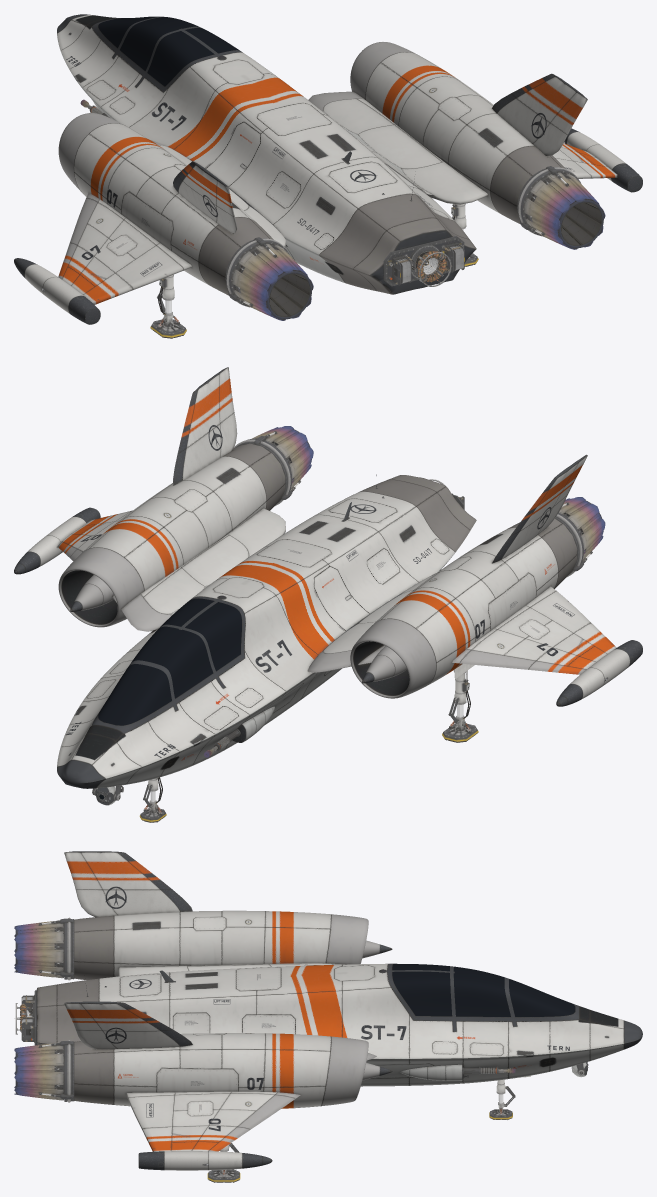
Rendered from tern_lod0.gltf.
3 views of the same model, one above another, from view 1: azimuth 30°, elevation 25°; view 2: azimuth 150°, elevation 25°; view 3: azimuth 270°, elevation 25° (orthographic). The views are drawn at different scales.
Parts seen in each view (by area): view 1: Hull, EngineNozzle_L, EngineNozzle_R, Glass, DriftDrive.001, Decals, GearMainL; view 2: Hull, Glass, EngineNozzle_R, EngineNozzle_L, Decals, GearMainL, GearNose; view 3: Hull, Glass, EngineNozzle_L, EngineNozzle_R, Decals, DriftDrive.001, GearNose, GearMainR.
Part boxes in pixels (x1,y1,x2,y2): Hull: [14, 14, 642, 324]; EngineNozzle_L: [225, 237, 313, 320]; EngineNozzle_R: [517, 166, 605, 249]; Glass: [98, 16, 239, 86]; DriftDrive.001: [383, 236, 464, 286]; Decals: [66, 56, 574, 276]; GearMainL: [150, 275, 186, 338]; Hull: [14, 367, 642, 788]; Glass: [98, 598, 241, 725]; EngineNozzle_R: [234, 426, 313, 505]; EngineNozzle_L: [555, 497, 605, 577]; Decals: [66, 425, 574, 760]; GearMainL: [442, 669, 478, 742]; GearNose: [139, 777, 166, 822]; Hull: [36, 851, 642, 1170]; Glass: [392, 963, 575, 1016]; EngineNozzle_L: [14, 917, 74, 980]; EngineNozzle_R: [14, 1040, 74, 1102]; Decals: [105, 886, 569, 1131]; DriftDrive.001: [14, 990, 36, 1045]; GearNose: [489, 1079, 515, 1119]; GearMainR: [207, 1143, 240, 1182].
Bounding box in the file's own units: 13.73 × 5.15 × 15.44.
5 materials, 4 textured.
